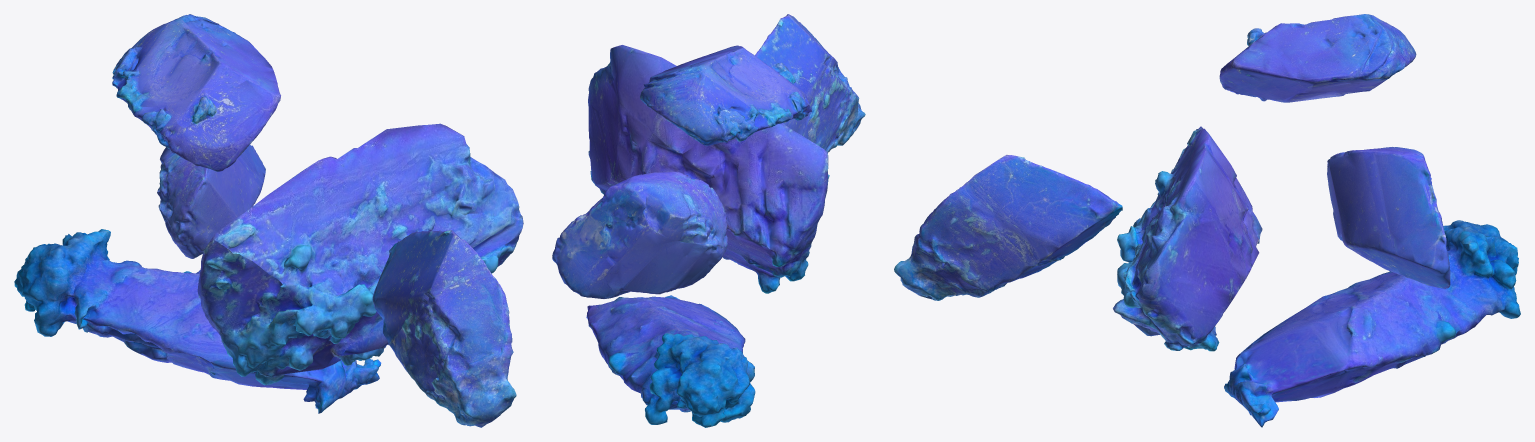
3 renders of one model, left to right at view 1: azimuth 30°, elevation 25°; view 2: azimuth 150°, elevation 25°; view 3: azimuth 270°, elevation 25°, orthographic. The views are drawn at different scales.
Visible parts, largest first — view 1: samor_1159_05, samor_1159_01, samor_1159_04, samor_1159_03, samor_1159_02; view 2: samor_1159_05, samor_1159_02, samor_1159_01, samor_1159_03, samor_1159_04; view 3: samor_1159_01, samor_1159_05, samor_1159_04, samor_1159_02, samor_1159_03.
Boxes of the visible parts, left/top/right/bottom form: samor_1159_05: left=197, top=123, right=523, bottom=385; samor_1159_01: left=14, top=229, right=381, bottom=413; samor_1159_04: left=372, top=230, right=516, bottom=427; samor_1159_03: left=112, top=14, right=280, bottom=171; samor_1159_02: left=157, top=144, right=265, bottom=258; samor_1159_05: left=588, top=45, right=829, bottom=293; samor_1159_02: left=552, top=171, right=727, bottom=298; samor_1159_01: left=586, top=295, right=755, bottom=427; samor_1159_03: left=640, top=45, right=811, bottom=146; samor_1159_04: left=755, top=14, right=865, bottom=152; samor_1159_01: left=1224, top=220, right=1520, bottom=427; samor_1159_05: left=1113, top=126, right=1262, bottom=351; samor_1159_04: left=894, top=155, right=1122, bottom=300; samor_1159_02: left=1327, top=147, right=1450, bottom=288; samor_1159_03: left=1219, top=14, right=1416, bottom=102.
Bounding box in the file's own units: 210 × 222 × 356.
5 materials, 5 textured.
